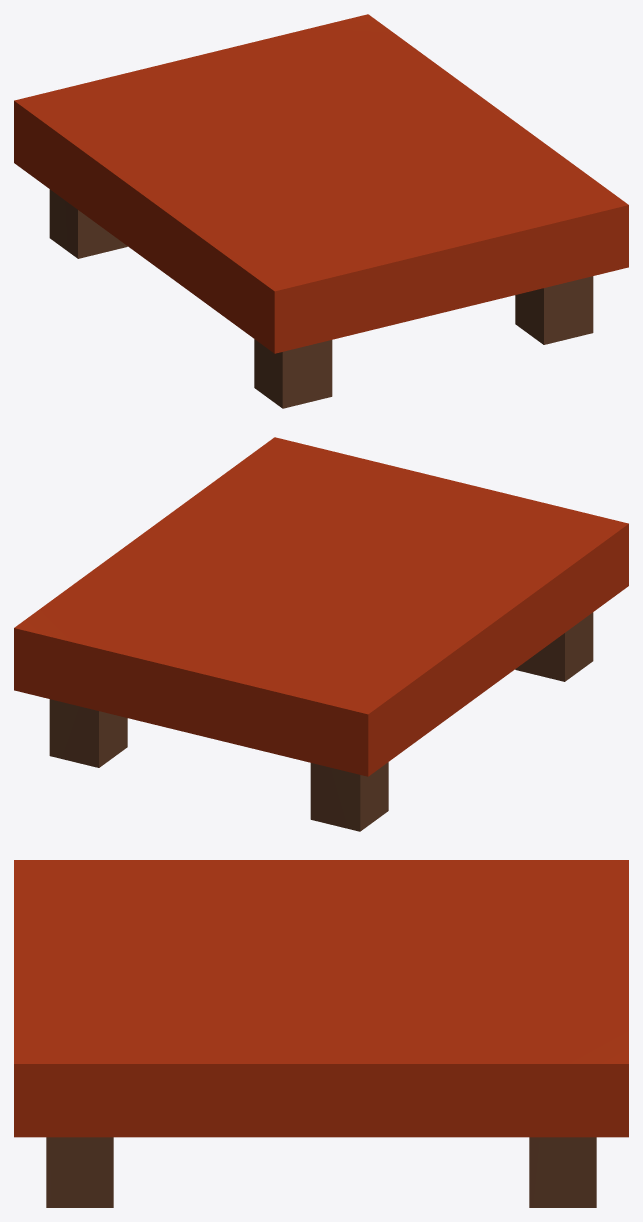
Rendered from Ban.fbx.
3 renders of one model, top to bottom at view 1: azimuth 30°, elevation 25°; view 2: azimuth 150°, elevation 25°; view 3: azimuth 270°, elevation 25°, orthographic. The views are drawn at different scales.
Parts seen in each view (by area): view 1: Ban; view 2: Ban; view 3: Ban.
Boxes of the visible parts, x1,y1,x2,y2 form: Ban: (14,14,628,408); Ban: (14,437,628,831); Ban: (14,860,628,1207).
Size of the model in its own units: 482 by 173 by 615.
